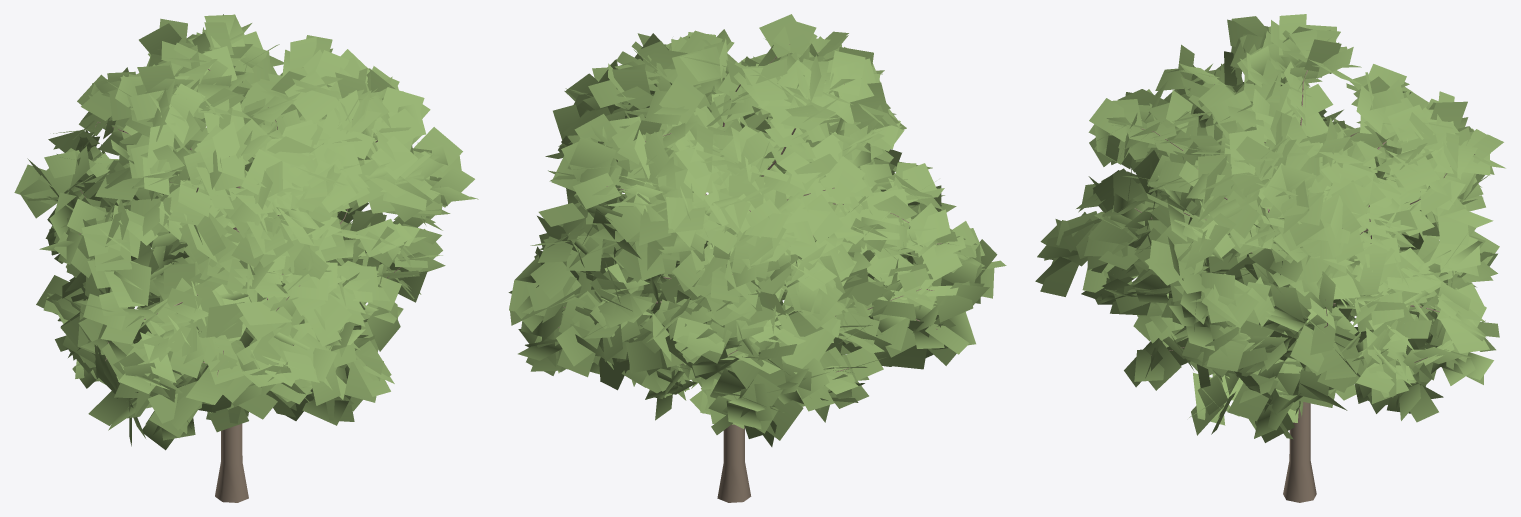
The model's file is Broadleaf_2_lod1.glb.
The picture shows the model from 3 angles, left to right: view 1: azimuth 30°, elevation 25°; view 2: azimuth 150°, elevation 25°; view 3: azimuth 270°, elevation 25°; orthographic projection. The views are drawn at different scales.
Visible parts, largest first — view 1: Broadleaf_2_lod1; view 2: Broadleaf_2_lod1; view 3: Broadleaf_2_lod1.
Part boxes in pixels (x1,y1,x2,y2): Broadleaf_2_lod1: [14, 14, 478, 502]; Broadleaf_2_lod1: [508, 14, 1006, 502]; Broadleaf_2_lod1: [1035, 14, 1505, 502].
Size of the model in its own units: 10.97 by 12.57 by 11.77.
